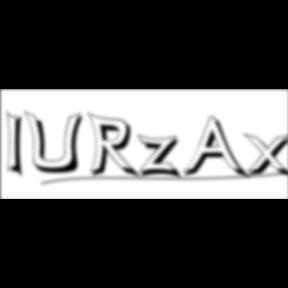A: (182, 116, 252, 182)
R: (88, 112, 144, 182)
U: (24, 110, 88, 176)
l: (7, 108, 30, 182)
z: (138, 134, 186, 182)
